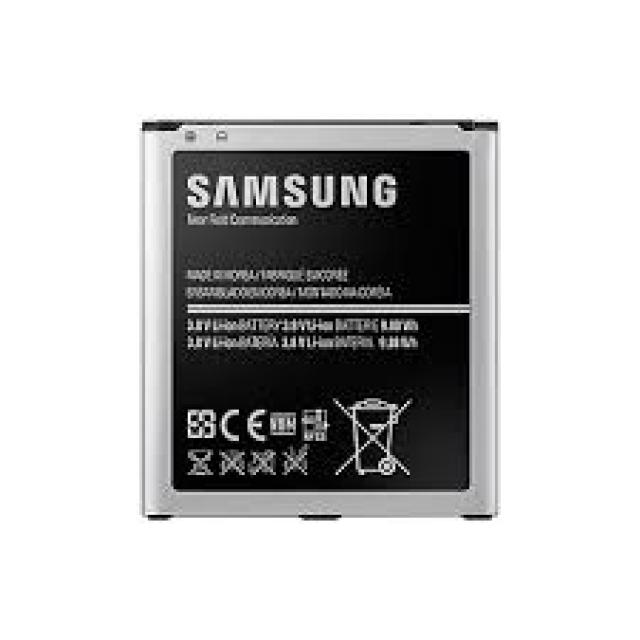non-organic waste: (137, 118, 504, 523)
